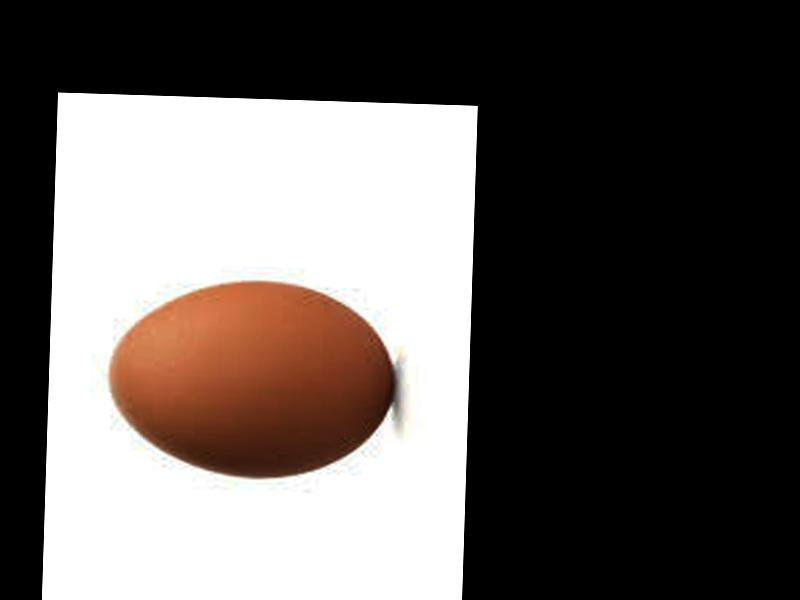Eggs: (109, 279, 398, 481)
